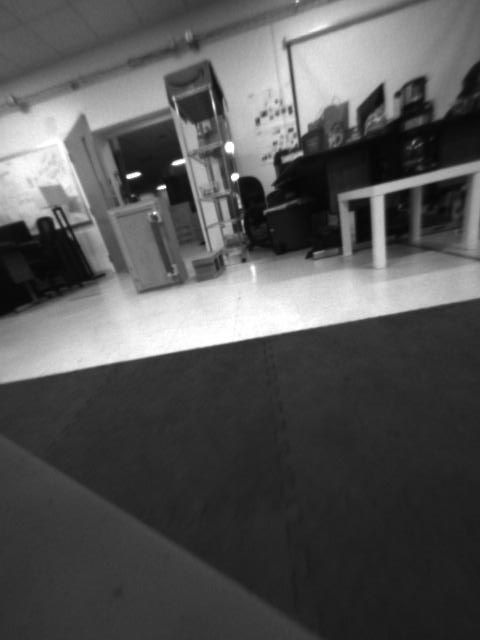coffee_pot: (396, 110, 442, 173)
